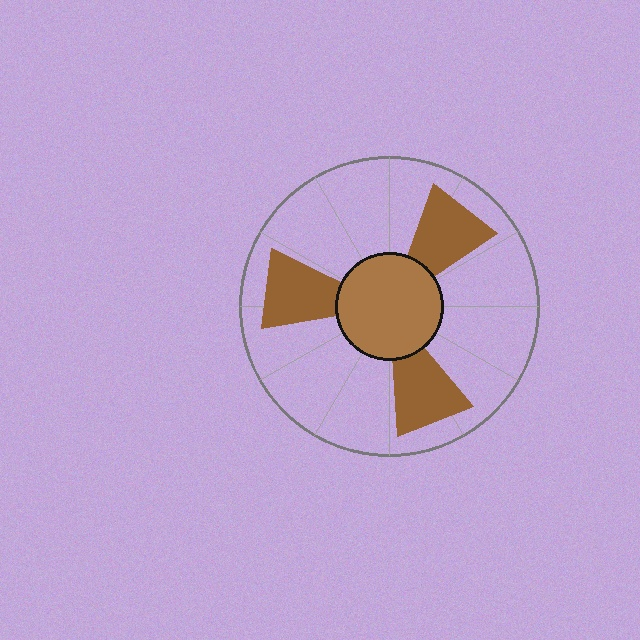fan: (235, 152, 543, 460)
